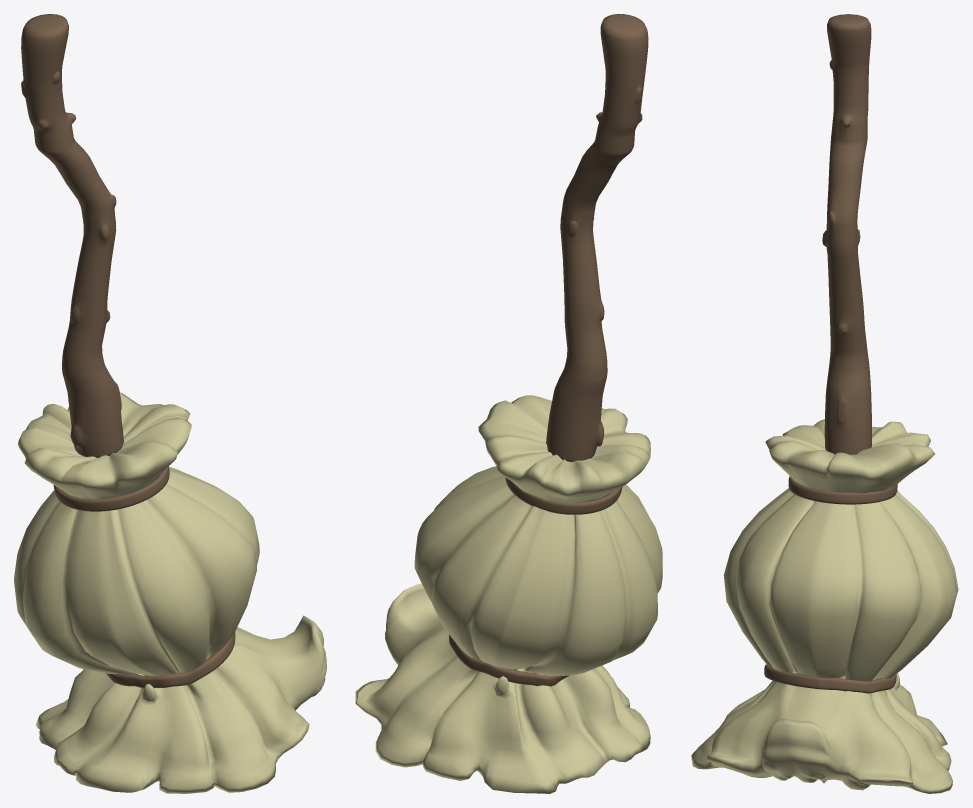
File: broom-test.fbx
The picture shows the model from 3 angles, left to right: view 1: azimuth 30°, elevation 25°; view 2: azimuth 150°, elevation 25°; view 3: azimuth 270°, elevation 25°; orthographic projection. The views are drawn at different scales.
Parts seen in each view (by area): view 1: bristles, stick, wraps; view 2: bristles, stick, wraps; view 3: bristles, stick, wraps.
Part boxes in pixels (left/top/right/bottom): bristles: left=14, top=392, right=326, bottom=793; stick: left=21, top=14, right=123, bottom=457; wraps: left=53, top=466, right=235, bottom=688; bristles: left=355, top=395, right=662, bottom=793; stick: left=546, top=14, right=648, bottom=461; wraps: left=449, top=477, right=622, bottom=686; bristles: left=691, top=419, right=958, bottom=793; stick: left=822, top=14, right=871, bottom=454; wraps: left=764, top=476, right=897, bottom=693.
Bounding box in the file's own units: 5.82 × 15.22 × 5.31.
